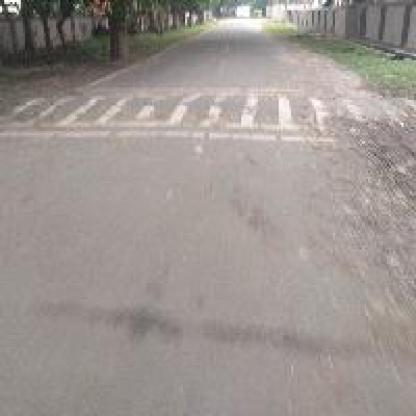Speed Bump: (0, 85, 333, 146)
